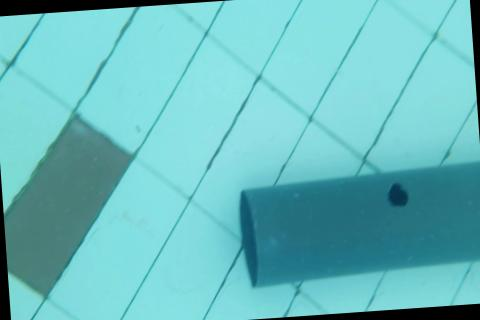kebocoran: (385, 180, 411, 210)
